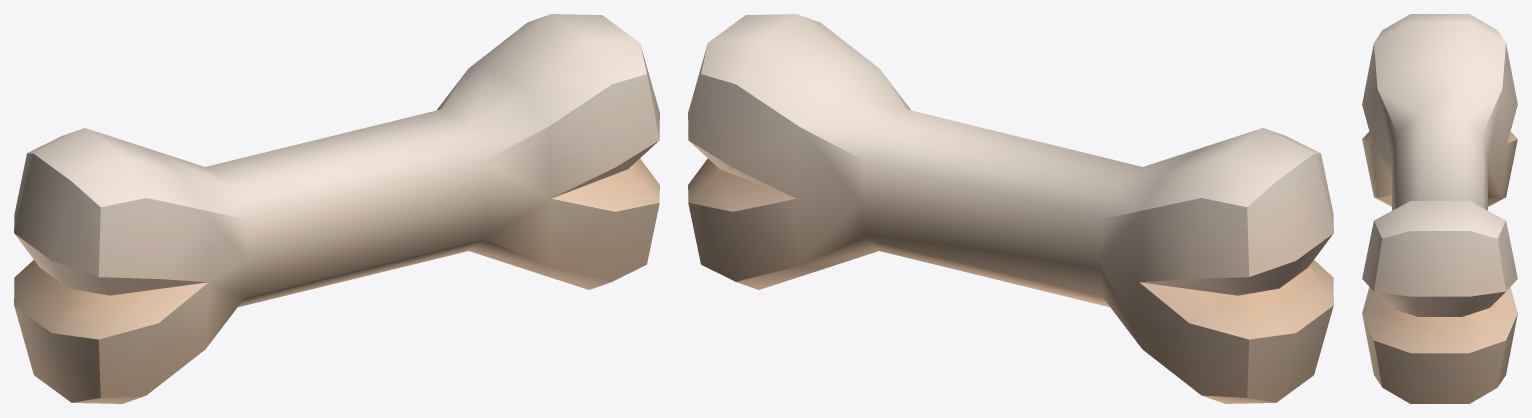
File: bone_a.glb
3 renders of one model, left to right at view 1: azimuth 30°, elevation 25°; view 2: azimuth 150°, elevation 25°; view 3: azimuth 270°, elevation 25°, orthographic. The views are drawn at different scales.
Visible parts, largest first — view 1: bone_A; view 2: bone_A; view 3: bone_A.
Boxes of the visible parts, x1,y1,x2,y2 form: bone_A: [14, 14, 659, 403]; bone_A: [688, 14, 1333, 403]; bone_A: [1362, 14, 1517, 403].
Bounding box in the file's own units: 0.707 × 0.2761 × 0.2007.
Materials: 1 (1 with a texture image).
